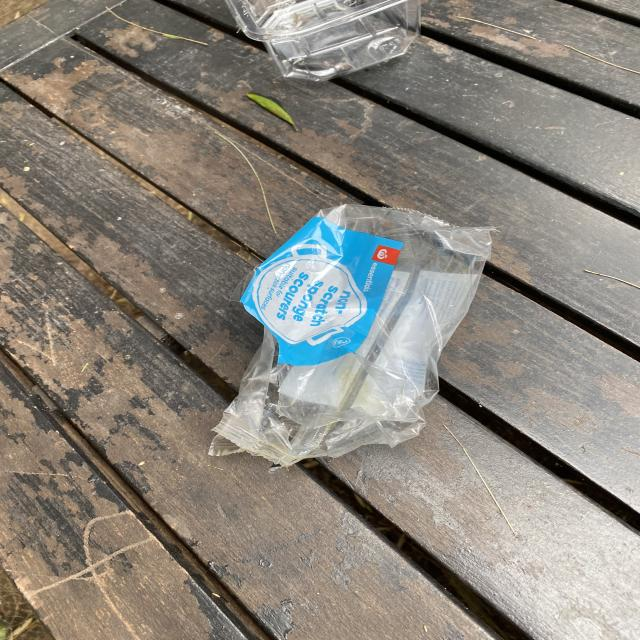wrappers: (209, 202, 493, 469)
